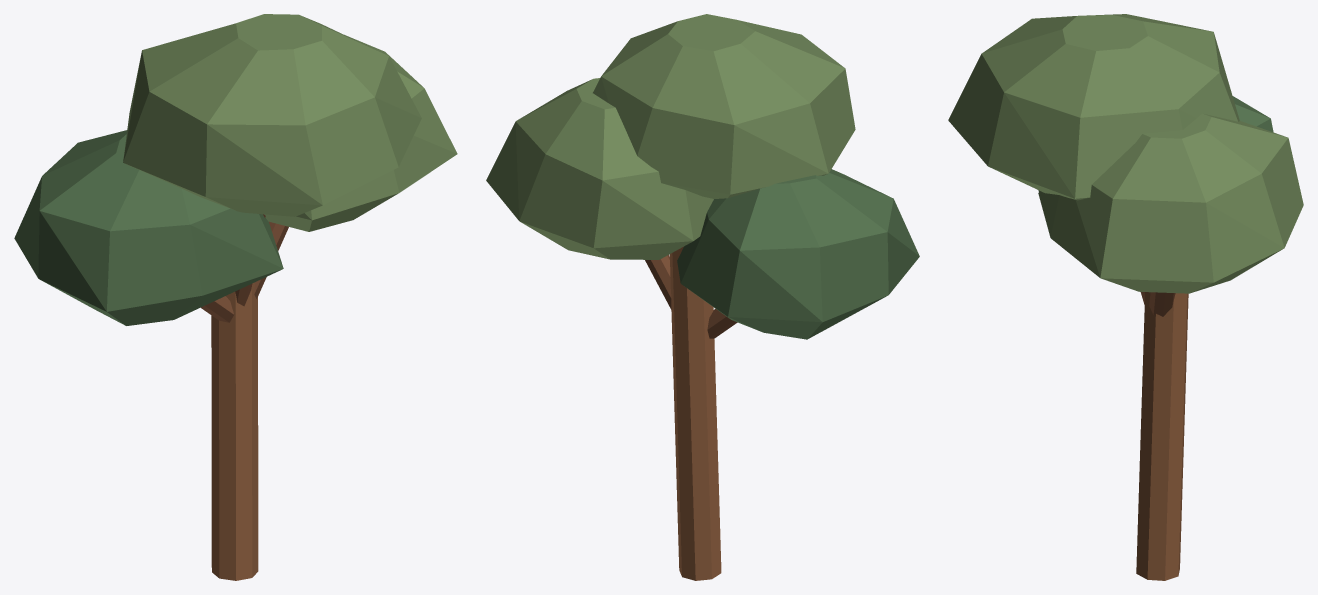
Rendered from tree_pine_v1530_02.glb.
3 renders of one model, left to right at view 1: azimuth 30°, elevation 25°; view 2: azimuth 150°, elevation 25°; view 3: azimuth 270°, elevation 25°, orthographic. The views are drawn at different scales.
Parts seen in each view (by area): view 1: tree_pine_v1530_02; view 2: tree_pine_v1530_02; view 3: tree_pine_v1530_02.
Boxes of the visible parts, x1=… form: tree_pine_v1530_02: x1=14, y1=14, x2=457, y2=580; tree_pine_v1530_02: x1=486, y1=14, x2=919, y2=580; tree_pine_v1530_02: x1=948, y1=14, x2=1303, y2=580.
Size of the model in its own units: 2.05 by 2.71 by 1.6.
